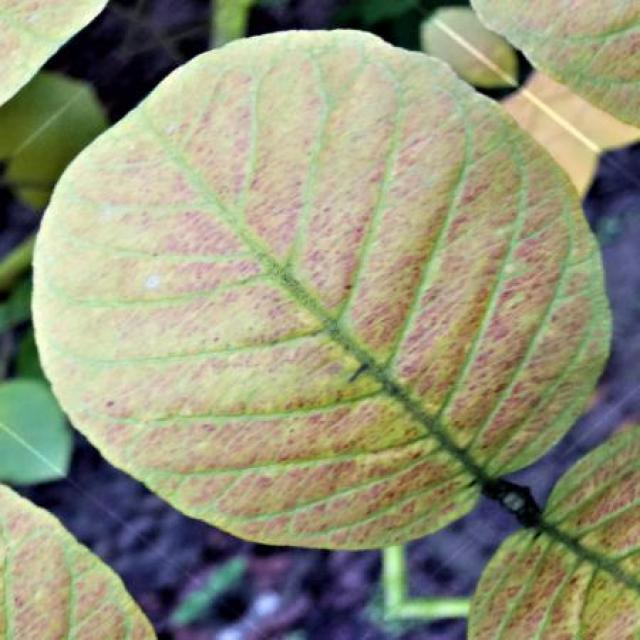Red Rust: (32, 31, 610, 548)
